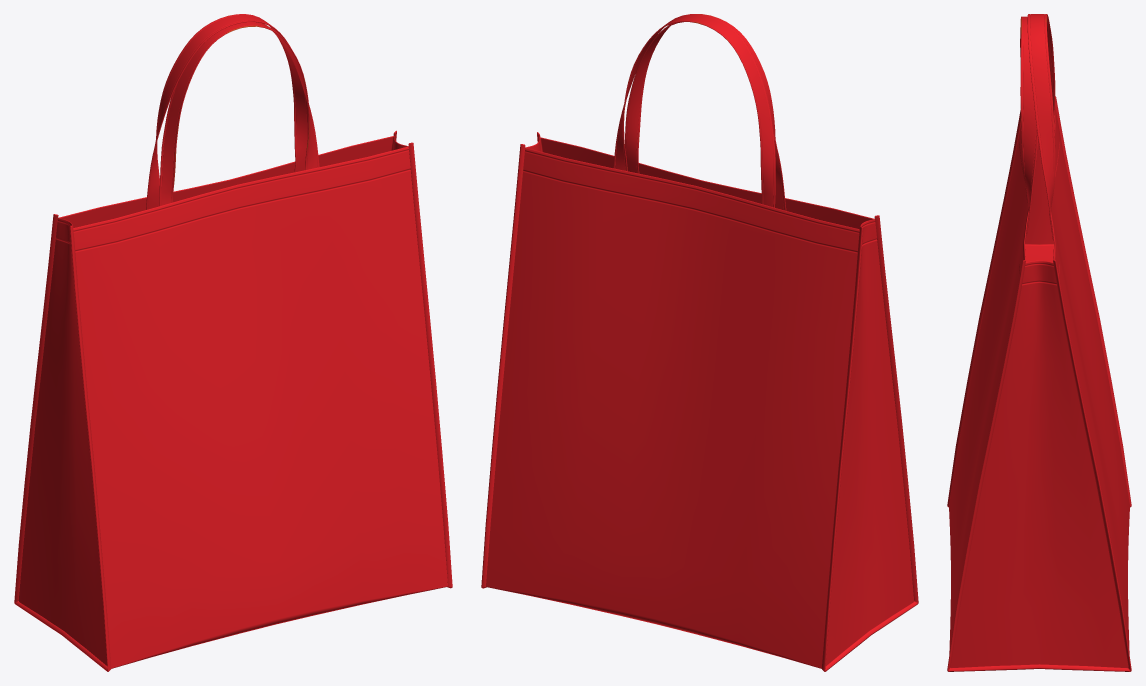
Rendered from bag_1.glb.
3 views of the same model, side by side, from view 1: azimuth 30°, elevation 25°; view 2: azimuth 150°, elevation 25°; view 3: azimuth 270°, elevation 25° (orthographic).
Visible parts, largest first — view 1: node_id101; view 2: node_id101; view 3: node_id101.
Boxes of the visible parts, x1,y1,x2,y2 form: node_id101: (14,14,452,671); node_id101: (481,14,918,671); node_id101: (947,14,1131,671).
Size of the model in its own units: 0.3194 by 0.512 by 0.1506.
Materials: 1 (1 with a texture image).
